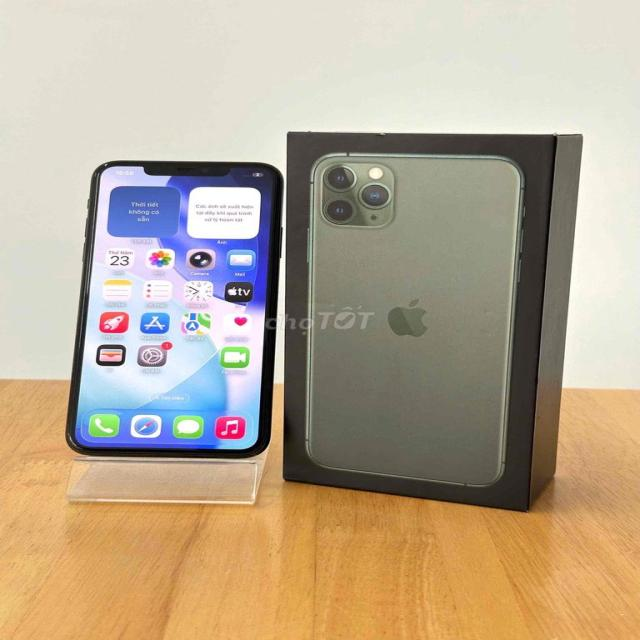gen_11: (60, 153, 288, 464)
